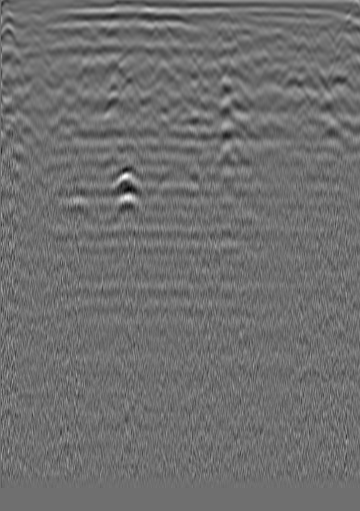가스: (105, 158, 143, 196)
상수: (21, 23, 41, 43)
오수: (313, 20, 333, 40)
우수: (159, 20, 179, 40)
